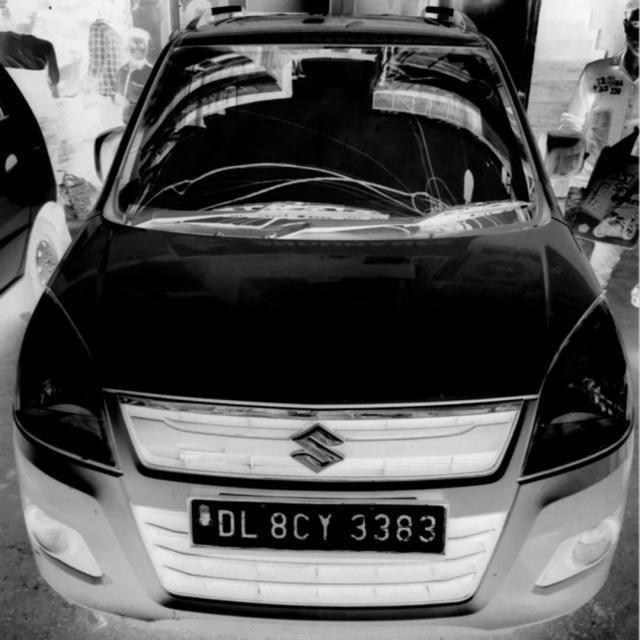3: (351, 510, 370, 547), (373, 509, 390, 546), (418, 514, 437, 546)
8: (394, 513, 415, 547), (270, 507, 290, 542)
C: (292, 511, 314, 541)
D: (218, 505, 240, 542)
IND: (192, 502, 216, 539)
Indian_registered: (190, 499, 446, 553)
L: (236, 504, 264, 544)
Y: (315, 511, 337, 548)
